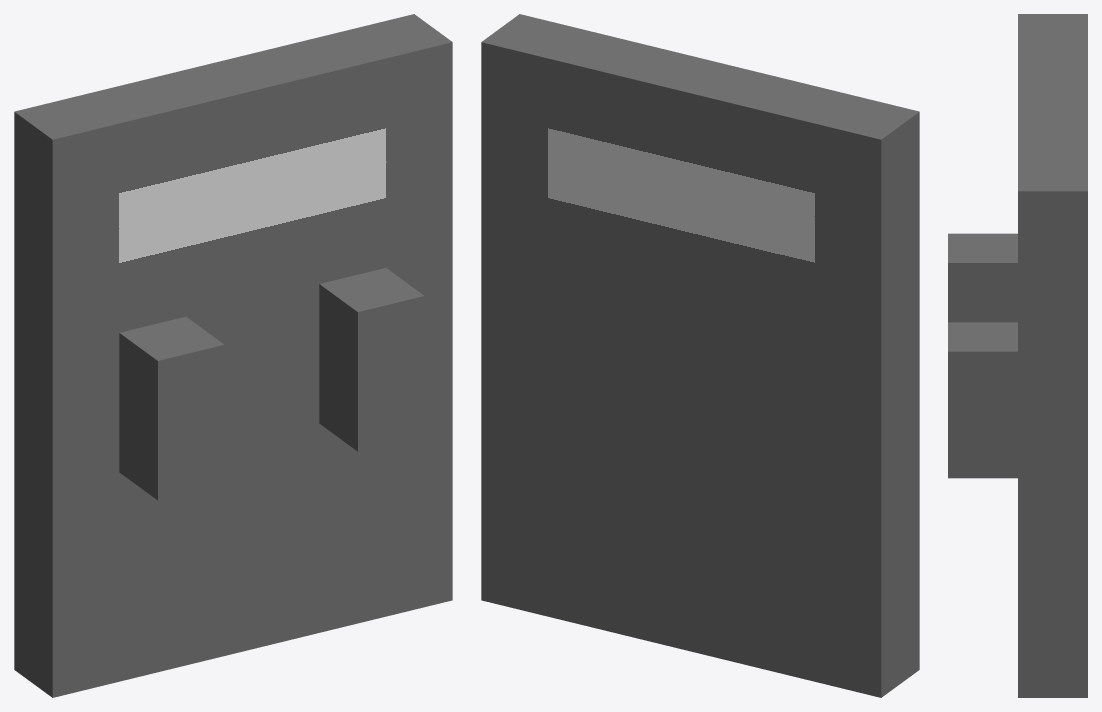
Rendered from riotShield.dae.
3 renders of one model, left to right at view 1: azimuth 30°, elevation 25°; view 2: azimuth 150°, elevation 25°; view 3: azimuth 270°, elevation 25°, orthographic. The views are drawn at different scales.
Parts seen in each view (by area): view 1: riotShield; view 2: riotShield; view 3: riotShield.
Boxes of the visible parts, <box> form: riotShield: <box>14,14,452,697</box>; riotShield: <box>481,14,919,697</box>; riotShield: <box>948,14,1087,697</box>.
Size of the model in its own units: 0.6 by 0.2 by 0.8.
Materials: 1 (1 with a texture image).
